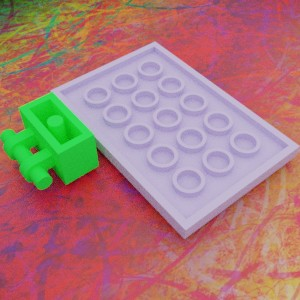lego: (50, 41, 299, 239), (0, 91, 98, 189)
